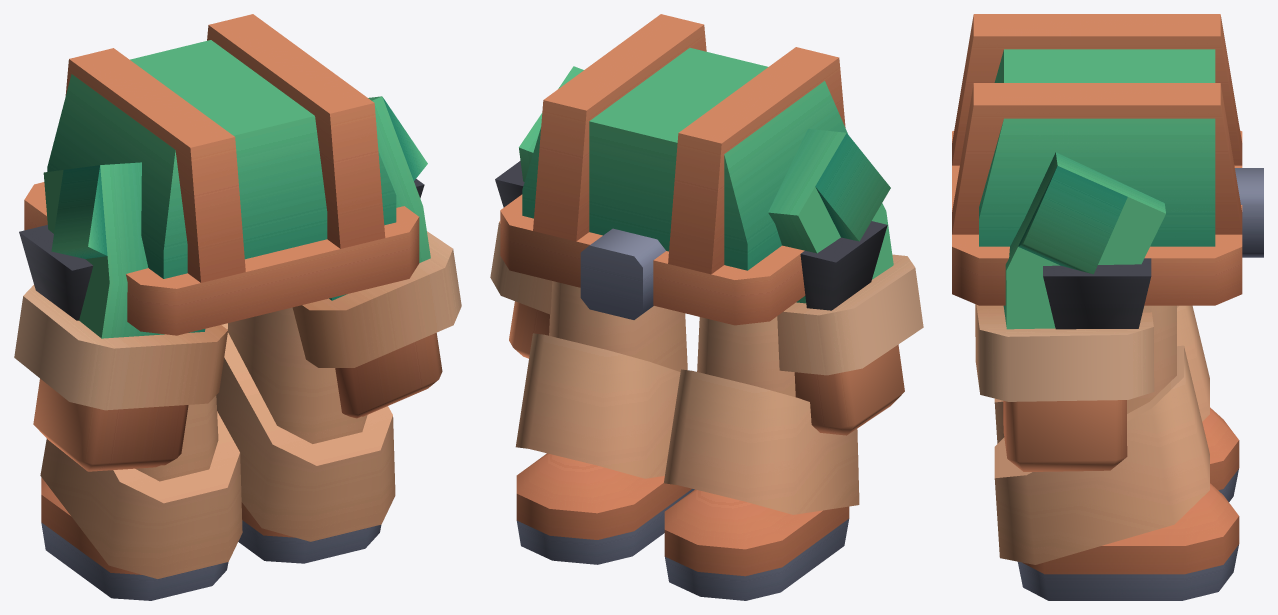
The model's file is mini-male-f.glb.
3 renders of one model, left to right at view 1: azimuth 30°, elevation 25°; view 2: azimuth 150°, elevation 25°; view 3: azimuth 270°, elevation 25°, orthographic. The views are drawn at different scales.
Visible parts, largest first — view 1: body-mesh; view 2: body-mesh; view 3: body-mesh.
Part boxes in pixels (box(x1,y1,x2,y2)): body-mesh: box(14, 14, 461, 600); body-mesh: box(490, 14, 923, 600); body-mesh: box(952, 14, 1263, 600).
Size of the model in its own units: 1.23 by 1.4 by 0.831.
1 material, 1 textured.
